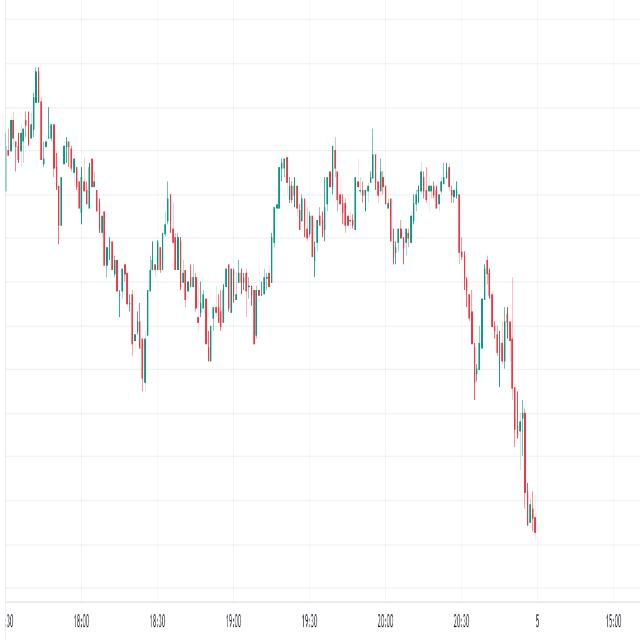rectangle: (271, 129, 462, 265)
